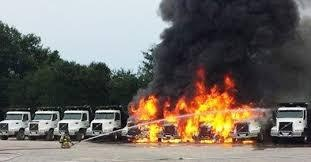fire: (126, 71, 262, 145)
